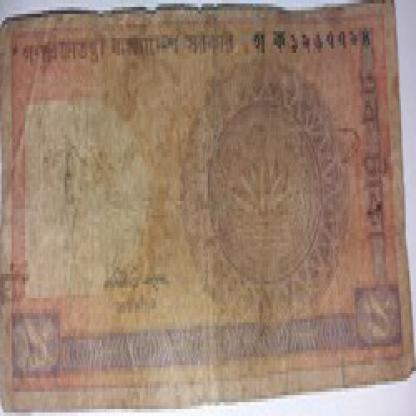One Taka: (358, 63, 396, 257), (10, 309, 58, 374), (359, 291, 398, 343)
